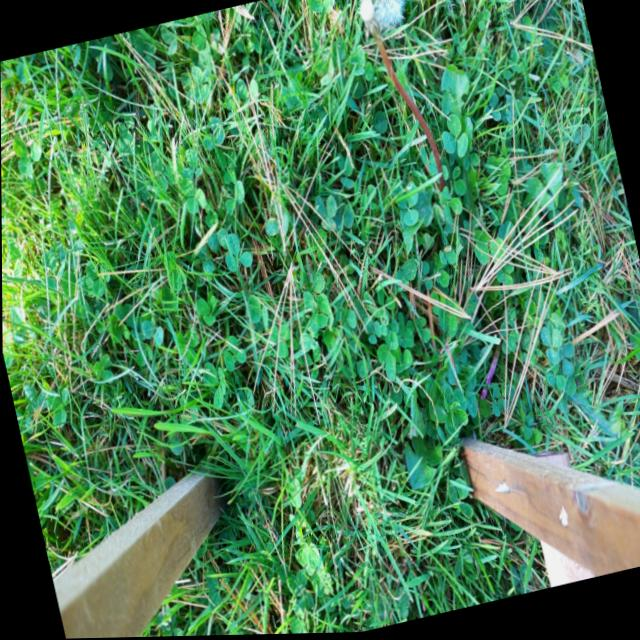base: (431, 178, 457, 212)
